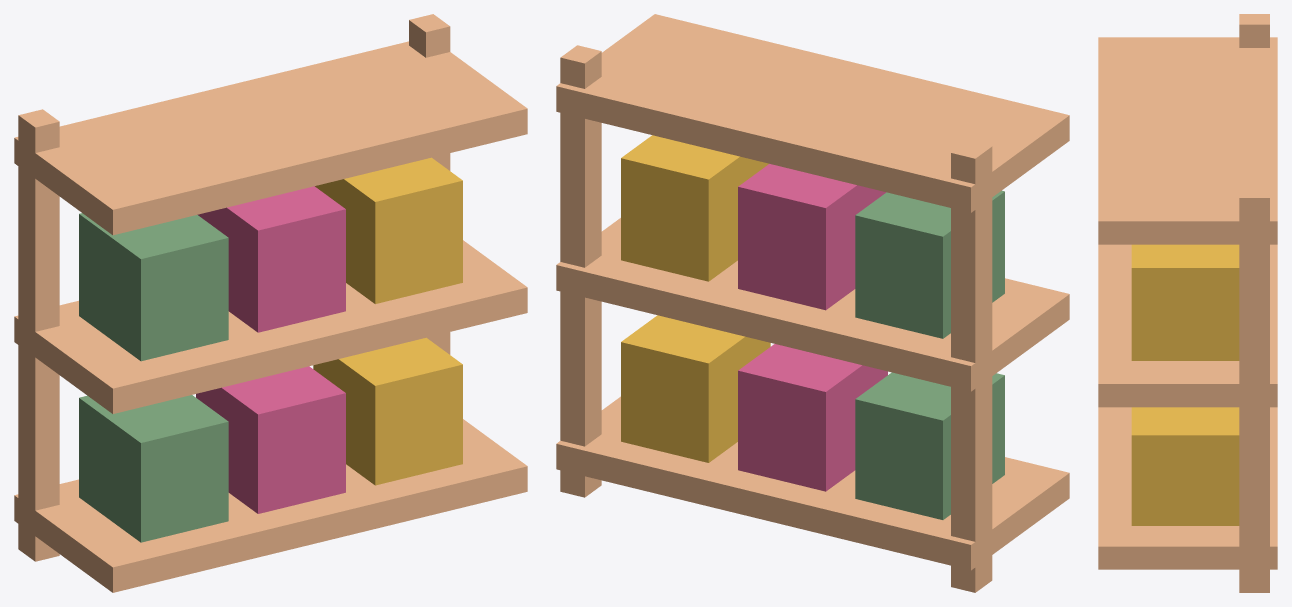
3 renders of one model, left to right at view 1: azimuth 30°, elevation 25°; view 2: azimuth 150°, elevation 25°; view 3: azimuth 270°, elevation 25°, orthographic. The views are drawn at different scales.
Parts seen in each view (by area): view 1: Retail display shelf.002, Retail display shelf.001, Retail display shelf, Display package, Display package.003, Display package.001, Display package.002, Display package.004, Display package.005, Display upright, Display upright.001; view 2: Retail display shelf.002, Retail display shelf.001, Retail display shelf, Display upright, Display package.001, Display package.002, Display package.004, Display package.005, Display upright.001, Display package, Display package.003; view 3: Retail display shelf.002, Display package.002, Display package.005, Retail display shelf.001, Display upright.001, Retail display shelf, Display upright.
Part boxes in pixels (x1,y1,x2,y2): Retail display shelf.002: [14, 41, 527, 235]; Retail display shelf.001: [14, 240, 527, 413]; Retail display shelf: [14, 419, 527, 592]; Display package: [79, 395, 228, 542]; Display package.003: [79, 213, 228, 361]; Display package.001: [196, 366, 345, 513]; Display package.002: [313, 337, 462, 485]; Display package.004: [197, 186, 345, 332]; Display package.005: [315, 157, 462, 303]; Display upright: [18, 109, 59, 561]; Display upright.001: [409, 14, 450, 354]; Retail display shelf.002: [556, 14, 1069, 212]; Retail display shelf.001: [556, 218, 1069, 391]; Retail display shelf: [556, 396, 1069, 570]; Display upright: [951, 140, 992, 592]; Display package.001: [738, 344, 887, 491]; Display package.002: [621, 315, 770, 462]; Display package.004: [738, 164, 885, 310]; Display package.005: [621, 135, 768, 281]; Display upright.001: [560, 45, 601, 497]; Display package: [855, 372, 1004, 519]; Display package.003: [855, 190, 1004, 338]; Retail display shelf.002: [1098, 37, 1277, 244]; Display package.002: [1131, 407, 1239, 525]; Display package.005: [1131, 244, 1239, 360]; Retail display shelf.001: [1098, 244, 1277, 407]; Display upright.001: [1239, 187, 1269, 592]; Retail display shelf: [1098, 407, 1277, 569]; Display upright: [1239, 14, 1269, 47].
Bounding box in the file's own units: 85 × 85 × 35.
